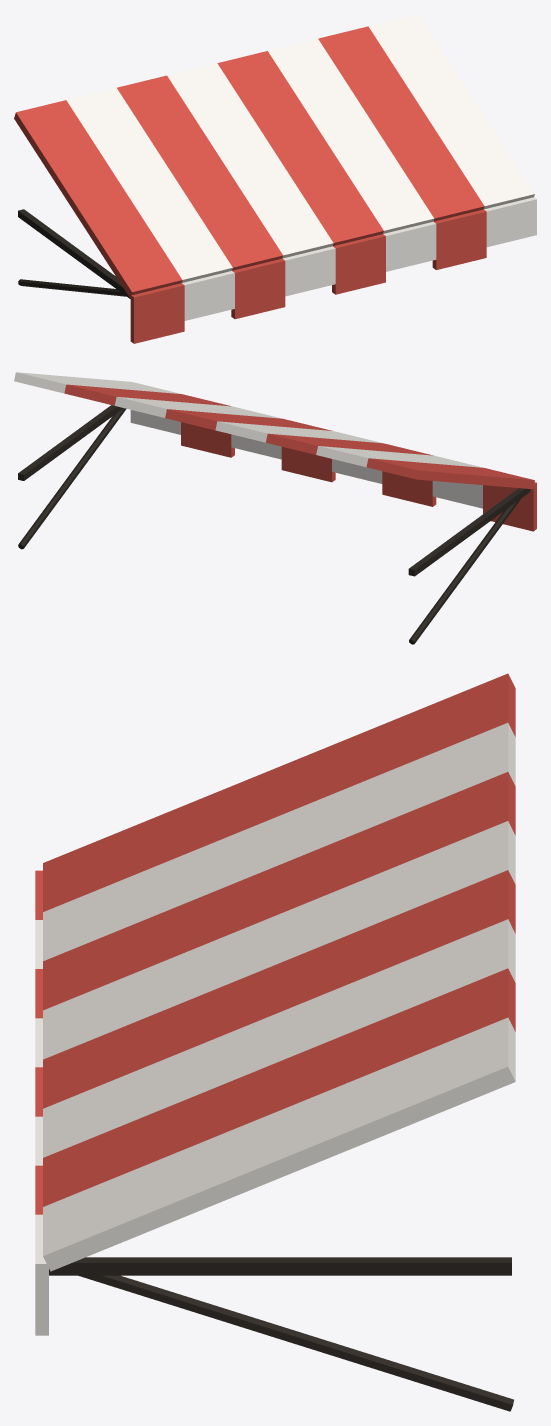
File: awning.glb
3 renders of one model, top to bottom at view 1: azimuth 30°, elevation 25°; view 2: azimuth 150°, elevation 25°; view 3: azimuth 270°, elevation 25°, orthographic. The views are drawn at different scales.
Visible parts, largest first — view 1: awning; view 2: awning; view 3: awning.
Part boxes in pixels (<box>): awning: <box>14,14,536,343</box>; awning: <box>14,372,536,644</box>; awning: <box>35,673,515,1411</box>.
Bounding box in the file's own units: 2 × 0.8324 × 1.03.
